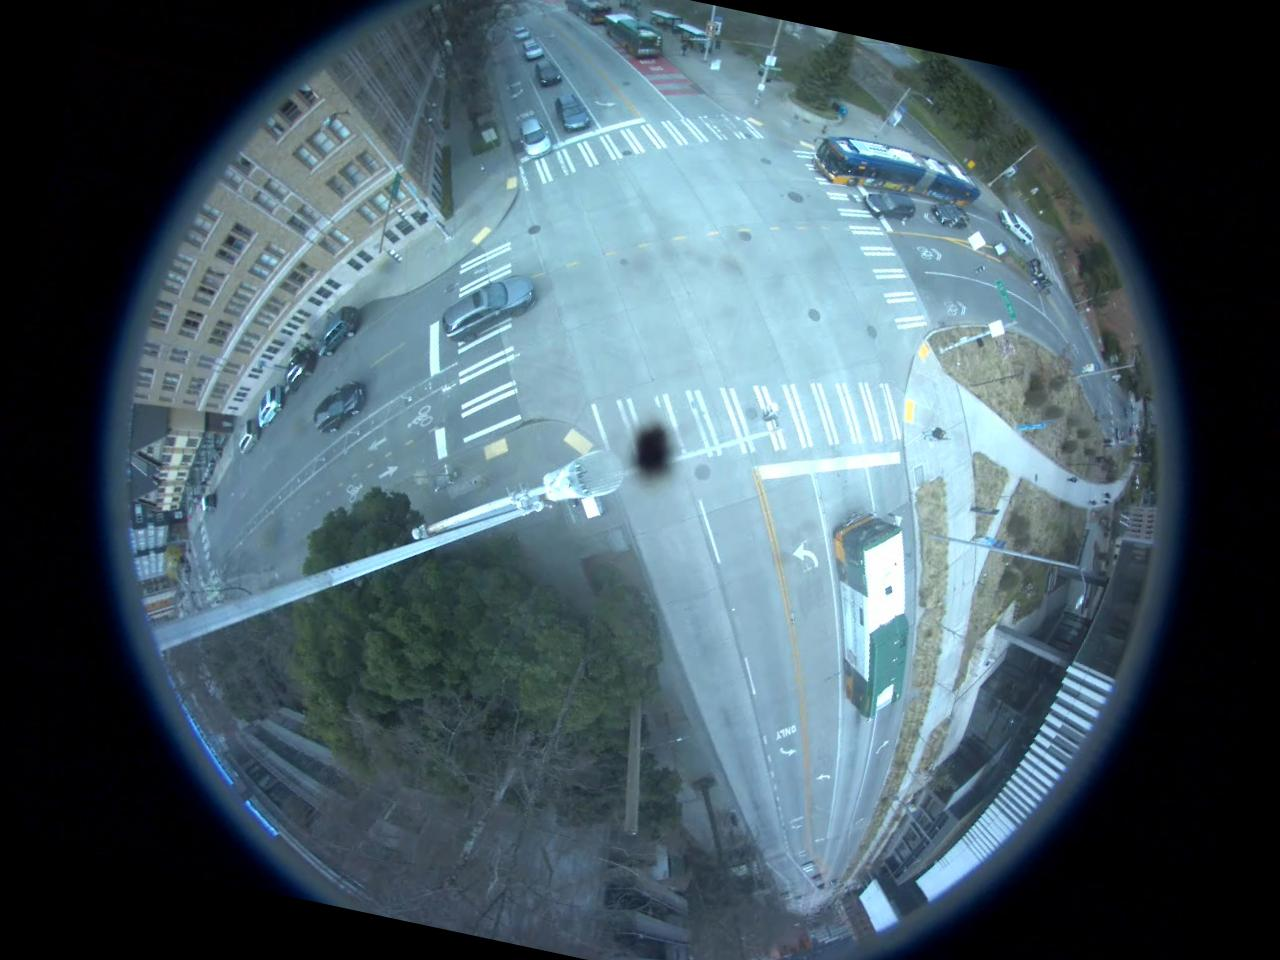bus: (800, 506, 937, 719), (806, 131, 984, 210), (597, 6, 667, 62), (562, 0, 614, 27)
car: (444, 262, 537, 351), (312, 376, 368, 439), (510, 110, 558, 160), (322, 303, 360, 359), (922, 192, 976, 229), (550, 94, 594, 136), (864, 186, 918, 220), (254, 382, 288, 433), (989, 209, 1038, 242), (286, 348, 315, 395), (235, 418, 262, 460), (532, 59, 562, 91), (523, 36, 544, 64)
person: (919, 422, 950, 444)
